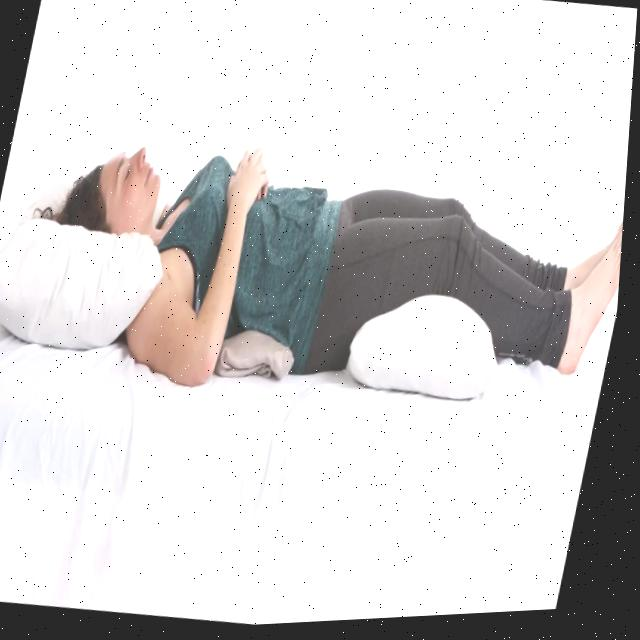sleeping-person: (0, 74, 635, 529)
